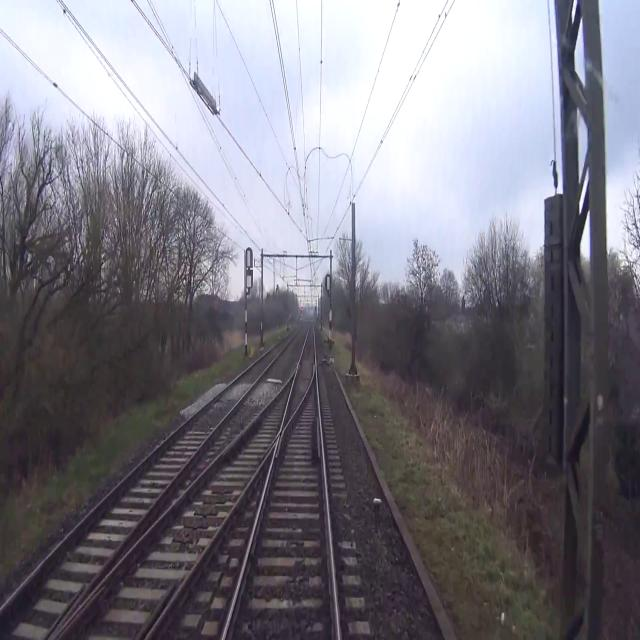rail-track: (0, 335, 291, 639), (59, 382, 291, 639), (226, 377, 336, 639), (285, 322, 314, 422)
